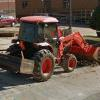Tractor: (5, 13, 82, 81)
